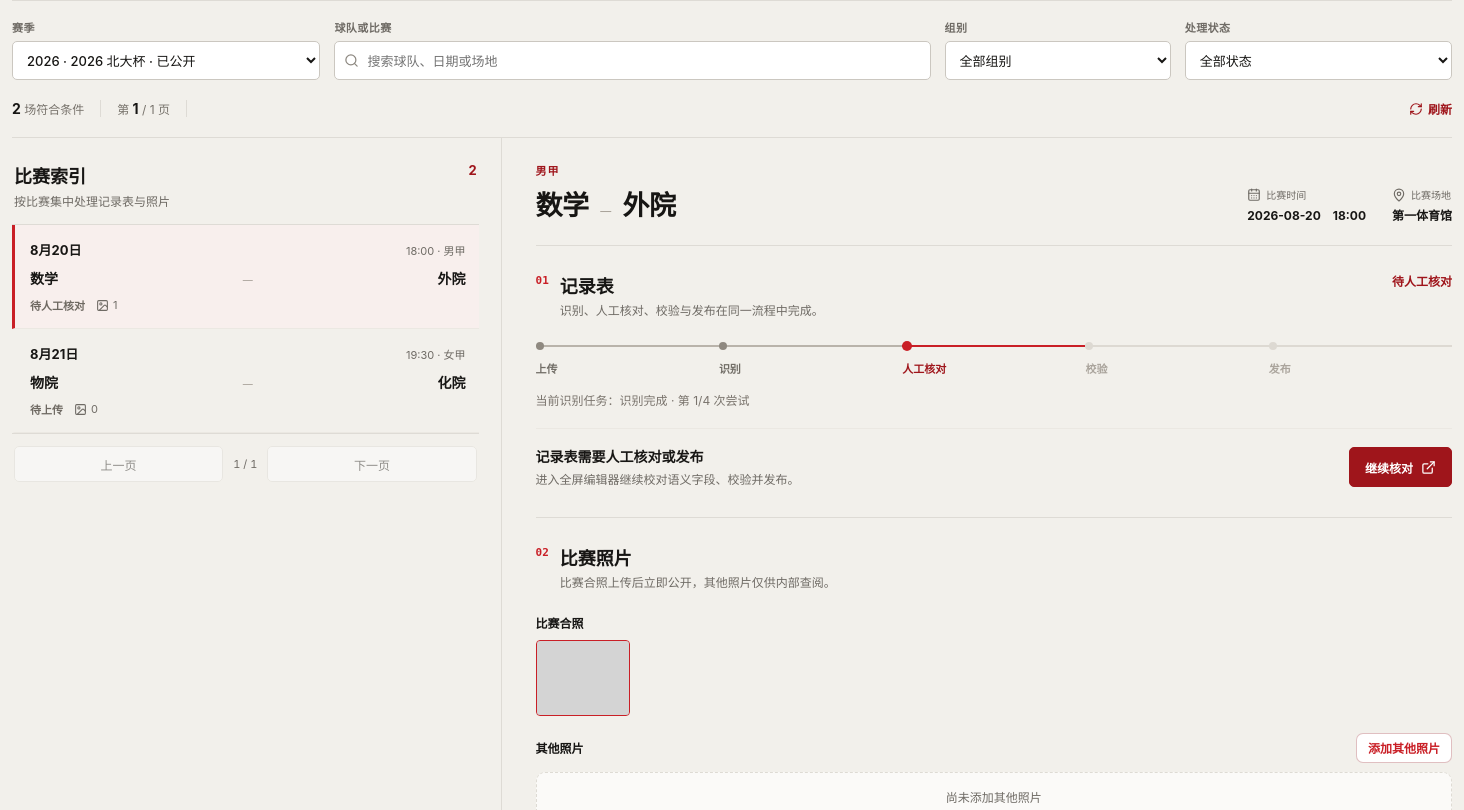
it: GameMediaWorkbench › aggregates records and photos by game, restores selection and filters the game index
Expected: the text "记录表需要人工核对或发布" is shown, [536,448,704,465]
Expected: the element named "比赛资料摘要" shows "2 场符合条件", [12,95,1452,122]
Select "待上传记录表" in the dropdown labelled "处理状态": (1318, 60) [1185,41,1452,80]
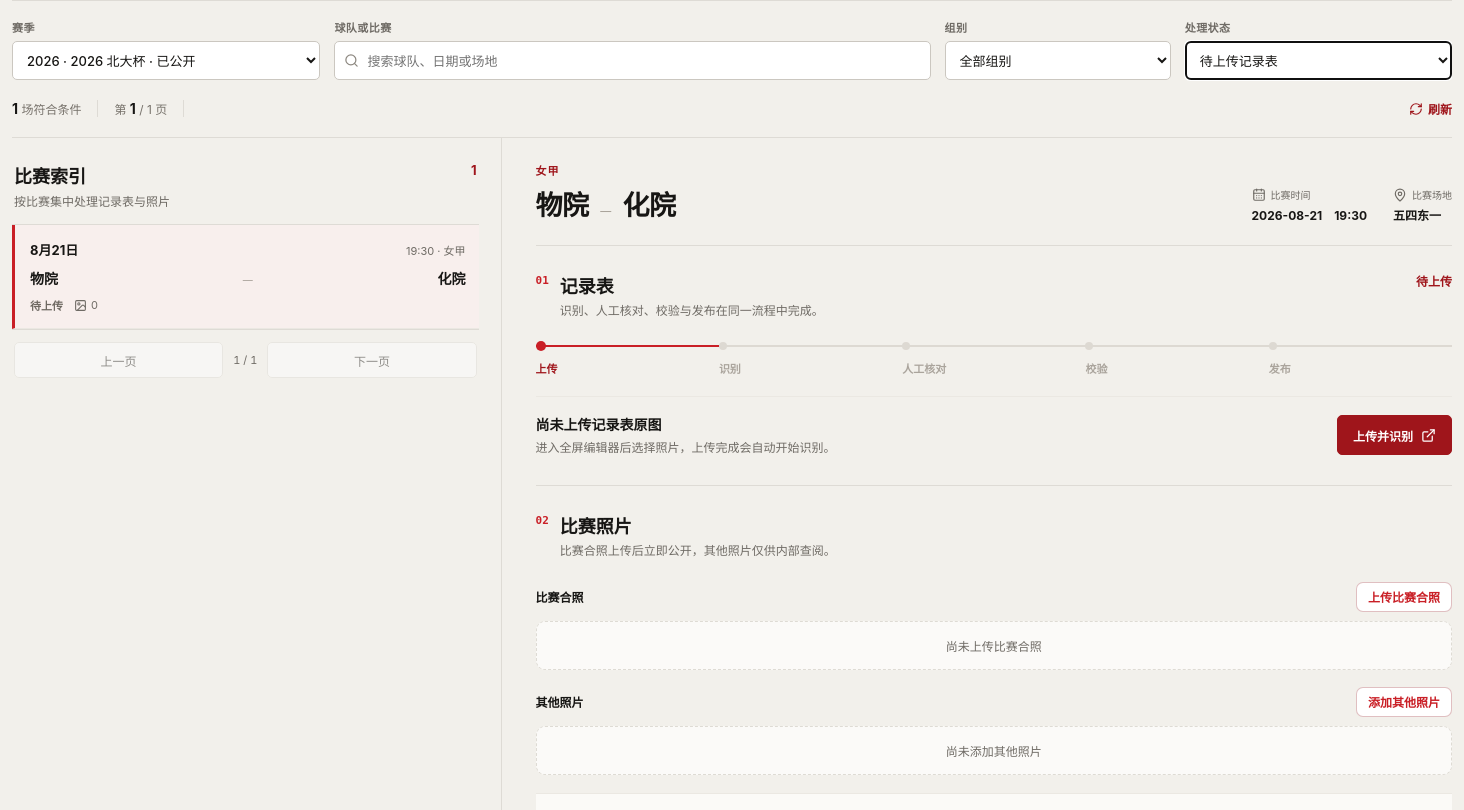
Expected: the text "尚未上传记录表原图" is shown, [536,416,662,433]
Expected: the button "上传并识别" is shown, [1337,415,1452,455]
Expected: the button "数学" is gone
